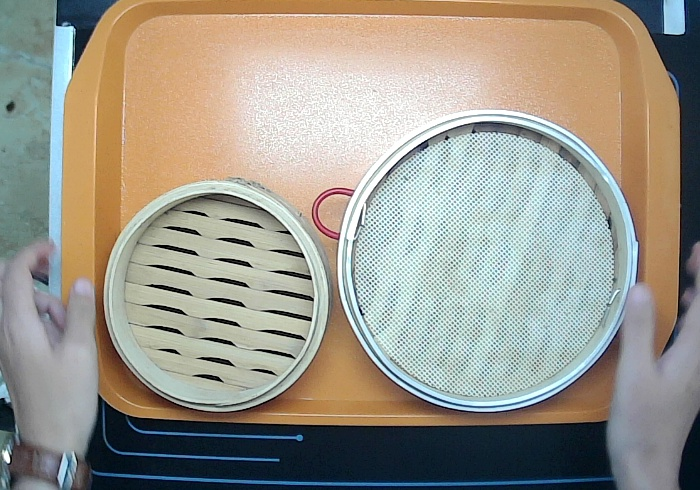ZNLD-Da_Zheng_Long: (311, 108, 641, 413)
ZNLD-Xiao_Zheng_Long: (101, 177, 334, 414)
